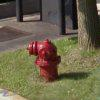Hydrant: (18, 24, 70, 93)
